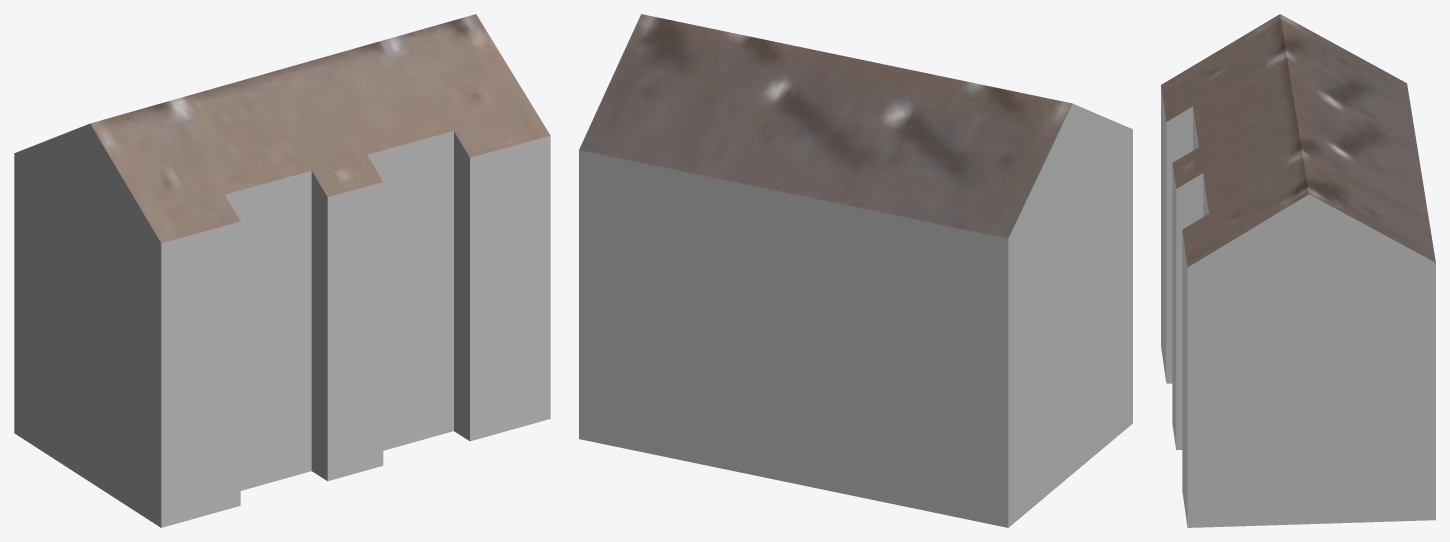
The model's file is DEBW_0010007TxiB.gltf.
3 views of the same model, side by side, from view 1: azimuth 30°, elevation 25°; view 2: azimuth 150°, elevation 25°; view 3: azimuth 270°, elevation 25° (orthographic). The views are drawn at different scales.
Visible parts, largest first — view 1: Z_UP; view 2: Z_UP; view 3: Z_UP.
Boxes of the visible parts, x1=… form: Z_UP: x1=14, y1=14, x2=550, y2=527; Z_UP: x1=579, y1=14, x2=1132, y2=527; Z_UP: x1=1161, y1=14, x2=1435, y2=527.
Size of the model in its own units: 19.01 by 15.62 by 11.8.
Materials: 2 (1 with a texture image).
